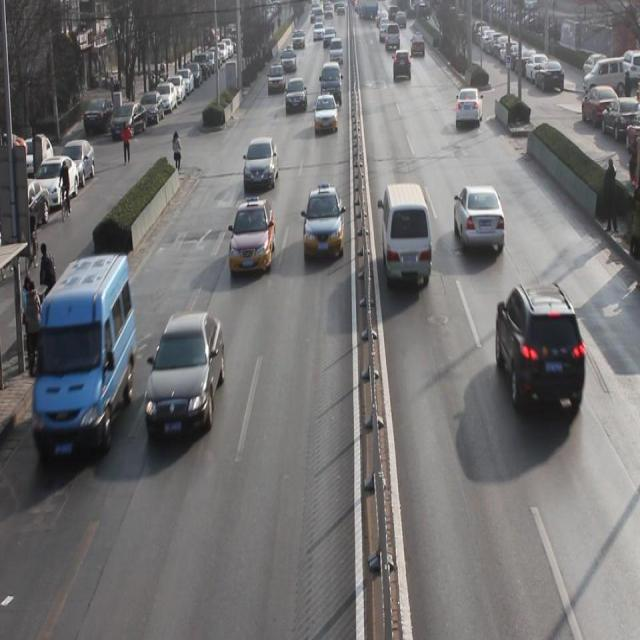car: (495, 281, 587, 419), (145, 315, 224, 439), (452, 186, 507, 258), (231, 199, 276, 280), (302, 188, 344, 264), (244, 140, 279, 192), (452, 86, 484, 130), (314, 95, 339, 136), (285, 76, 307, 117), (392, 46, 413, 84), (267, 64, 286, 95), (280, 46, 296, 74)
truck: (33, 260, 135, 467), (380, 183, 434, 291), (320, 64, 343, 108)
